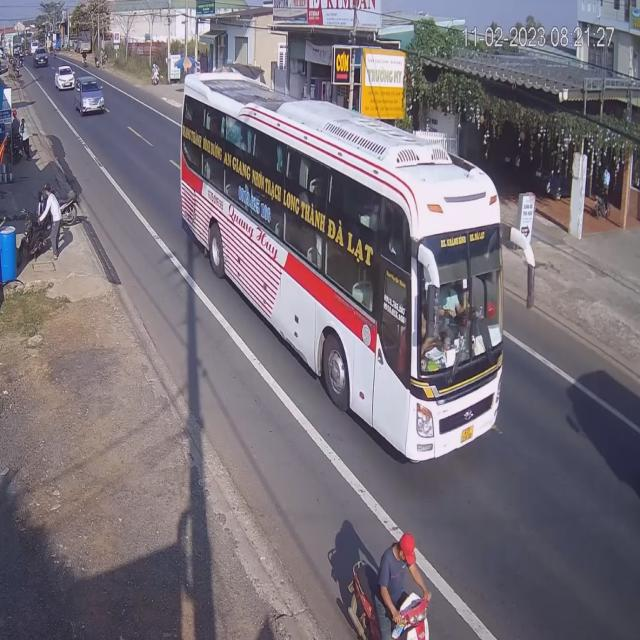bus: (178, 67, 504, 457)
car: (74, 75, 106, 115), (56, 65, 76, 92), (34, 49, 48, 69)
motorbike: (345, 525, 434, 639)
